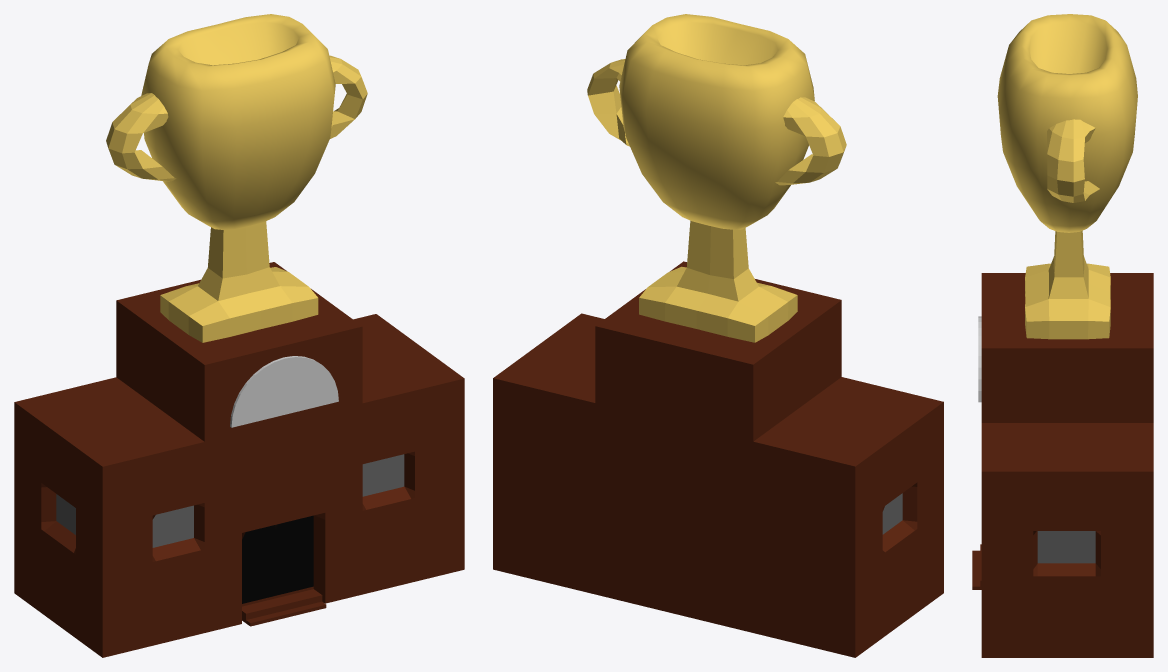
Rendered from trofeu.fbx.
3 renders of one model, left to right at view 1: azimuth 30°, elevation 25°; view 2: azimuth 150°, elevation 25°; view 3: azimuth 270°, elevation 25°, orthographic. The views are drawn at different scales.
Visible parts, largest first — view 1: Cube.009, Cube.010, Circle.003; view 2: Cube.009, Cube.010; view 3: Cube.009, Cube.010, Circle.003.
Part boxes in pixels (box(x1,y1,x2,y2)): Cube.009: box(14, 262, 464, 657); Cube.010: box(106, 14, 367, 342); Circle.003: box(230, 356, 338, 427); Cube.009: box(493, 261, 943, 657); Cube.010: box(587, 14, 846, 342); Cube.009: box(972, 273, 1153, 657); Cube.010: box(997, 14, 1137, 339); Circle.003: box(978, 316, 981, 402).
Bounding box in the file's own units: 547 × 781 × 244.
